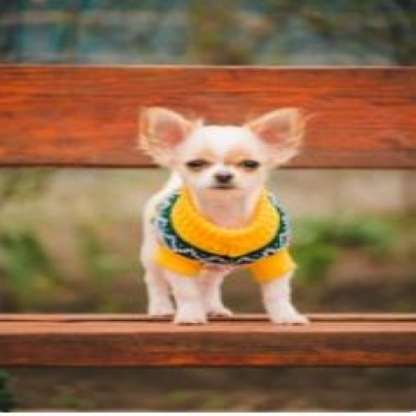chihuahua: (132, 100, 316, 328)
